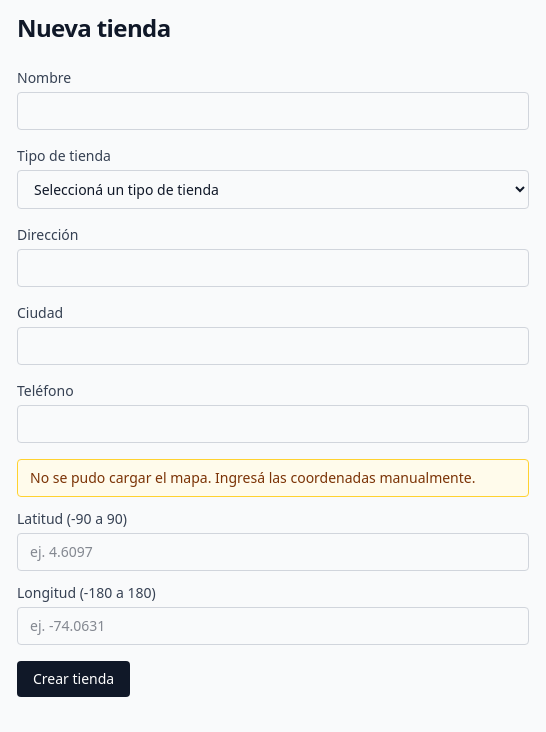
Test case: StoreFormPage · escape hatch numérico (chunk de Leaflet caído) › latitud fuera de rango (120) en el escape hatch: error inline y CERO requests (Zod −90..90)
The image size is (546, 732).
Expected: the text "No se pudo cargar el mapa. Ingresá las coordenadas manualmente." is shown, [17,459,529,497]
In the field labelled "Nombre": (273, 111) [17,92,529,130], type "Tienda Centro"
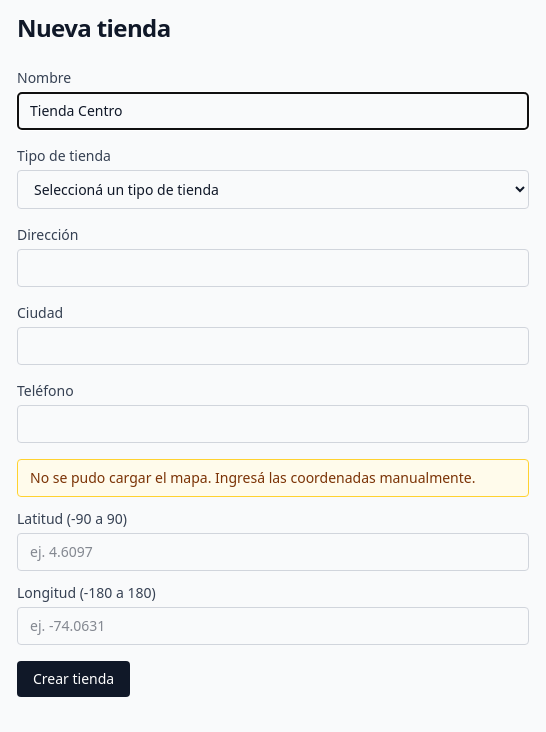
Select "Minimercado" in the dropdown labelled "Tipo de tienda": (273, 190) [17,170,529,209]
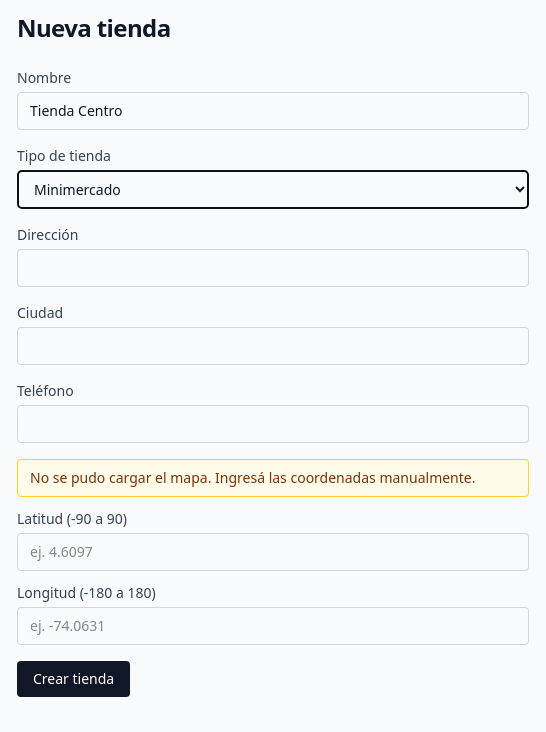
In the number field labelled "Latitud (-90 a 90)": (273, 552) [17,533,529,571], type "120"
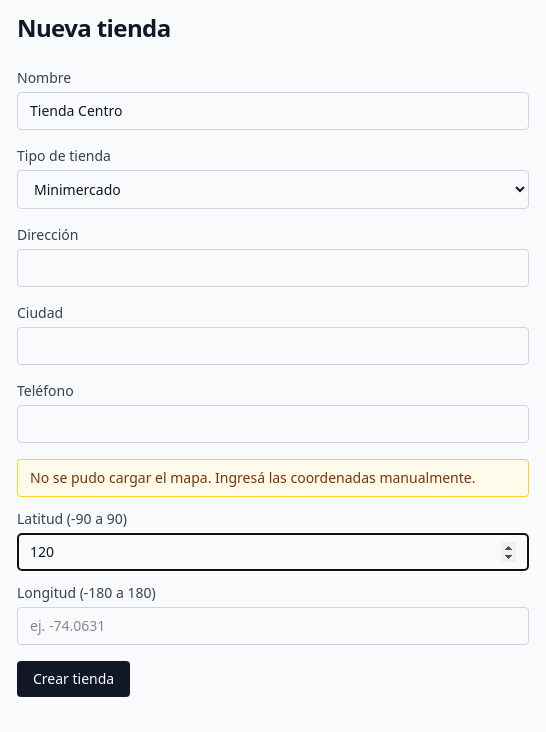
In the number field labelled "Longitud (-180 a 180)": (273, 626) [17,607,529,645], type "-74.0631"
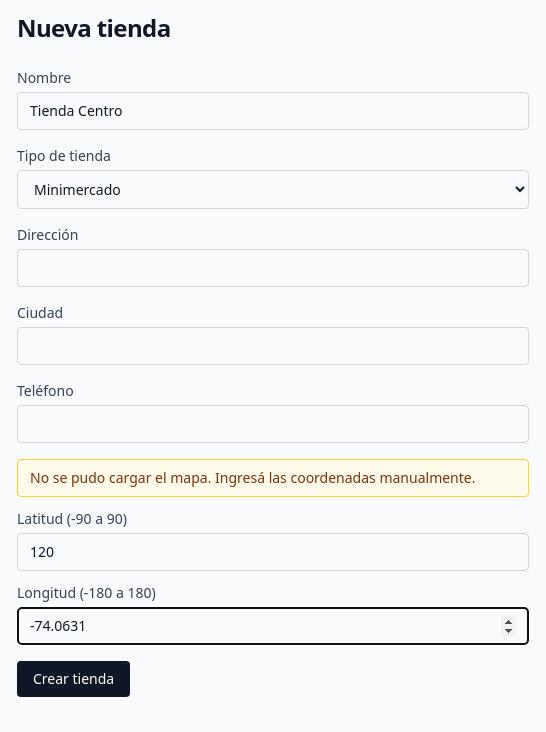
Click the button "Crear tienda": (74, 679) [17,661,130,697]
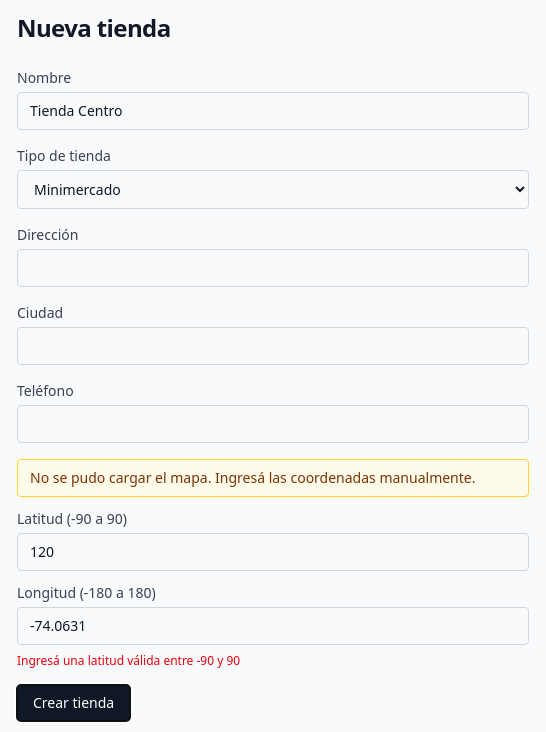
Expected: the text "Ingresá una latitud válida entre -90 y 90" is shown, [17,652,240,669]
